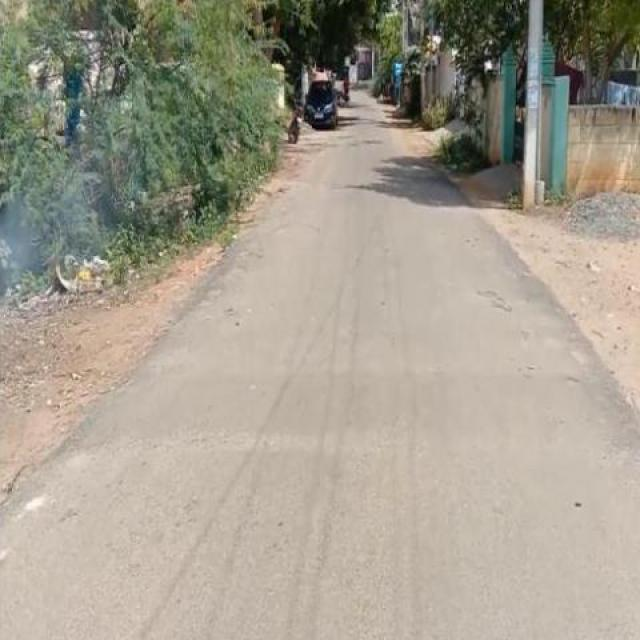Unmarked Bump: (89, 359, 616, 445)
